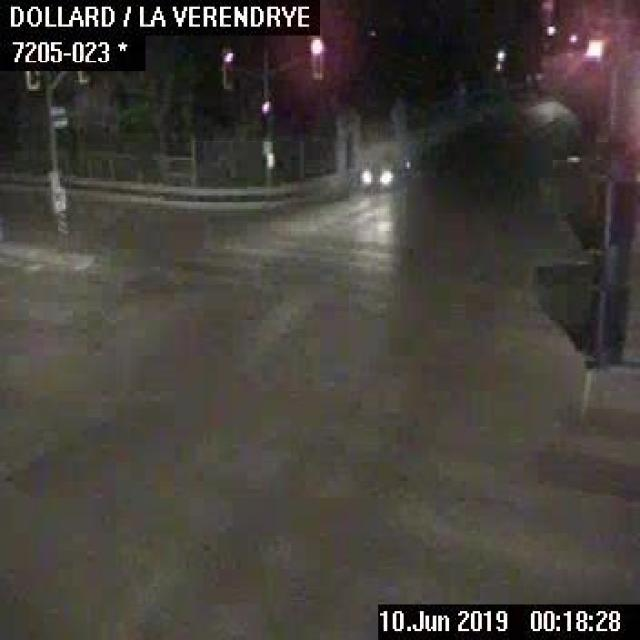vehicle: (356, 145, 408, 187)
